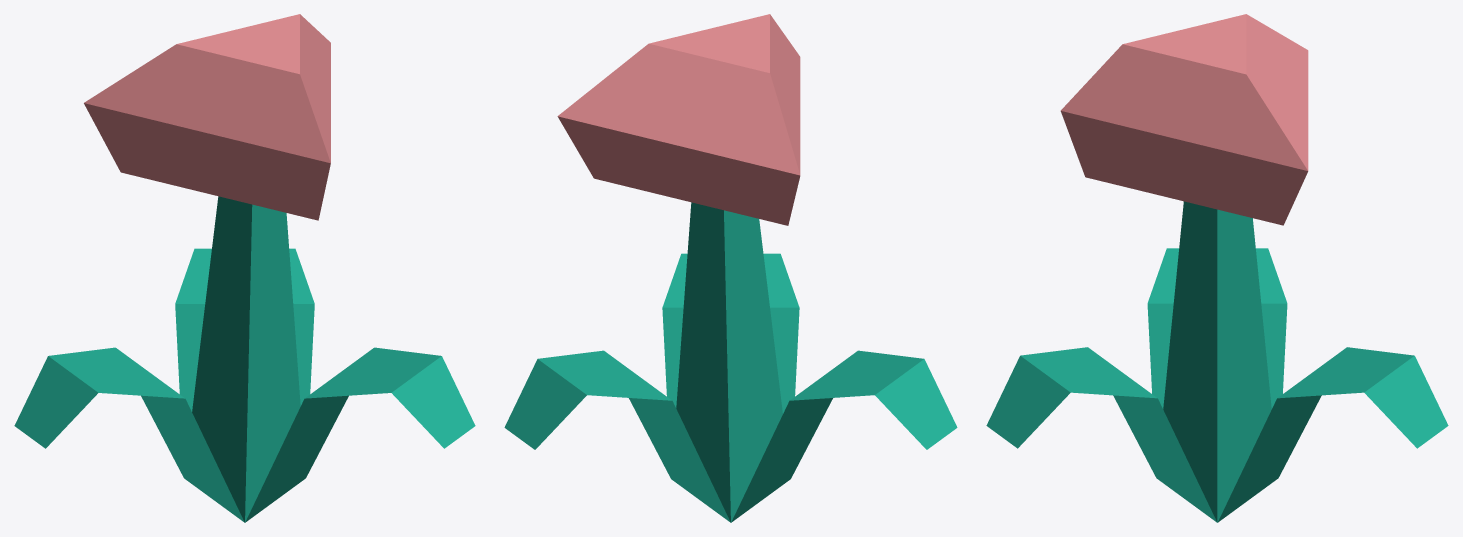
The model's file is flower_redB.glb.
3 renders of one model, left to right at view 1: azimuth 30°, elevation 25°; view 2: azimuth 150°, elevation 25°; view 3: azimuth 270°, elevation 25°, orthographic.
Visible parts, largest first — view 1: flower_redB; view 2: flower_redB; view 3: flower_redB.
Boxes of the visible parts, <box> form: flower_redB: <box>14,14,475,522</box>; flower_redB: <box>504,14,957,522</box>; flower_redB: <box>986,14,1448,522</box>.
Bounding box in the file's own units: 0.2408 × 0.3003 × 0.2778.
